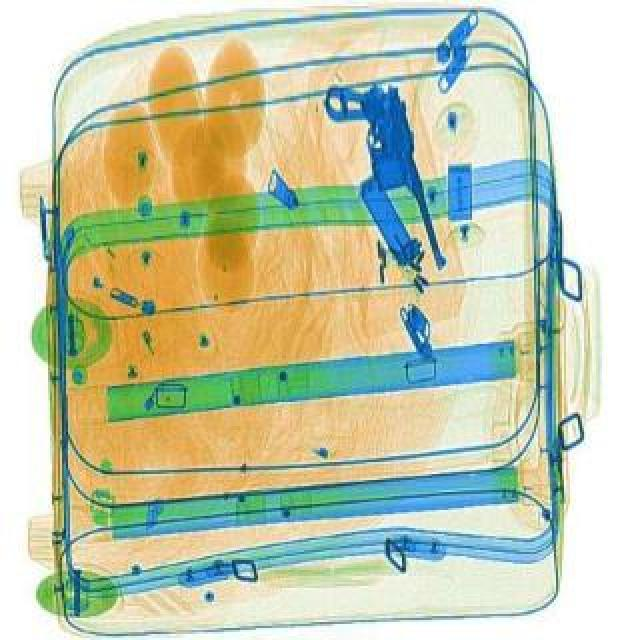gun: (320, 72, 446, 282)
